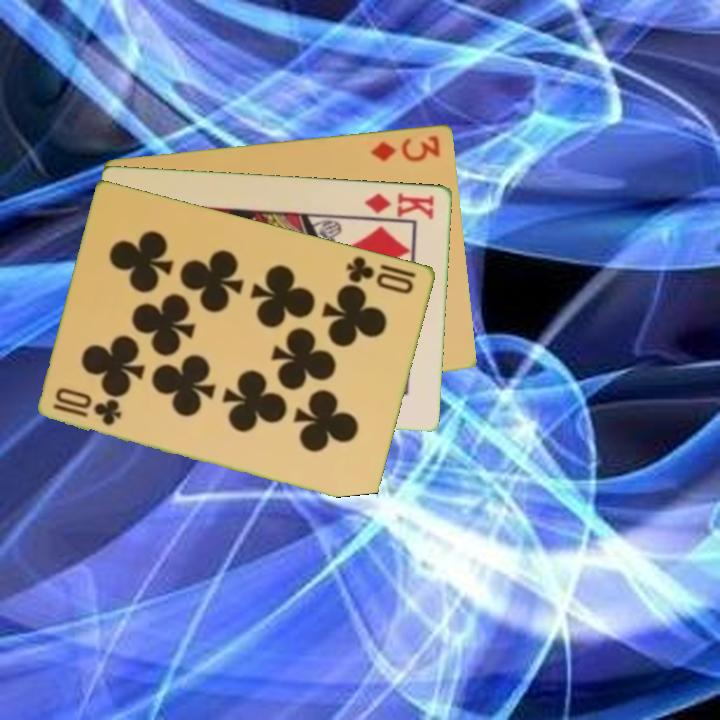10c: (343, 252, 417, 297), (50, 397, 125, 429)
3d: (367, 131, 444, 164)
Kd: (361, 189, 437, 222)
